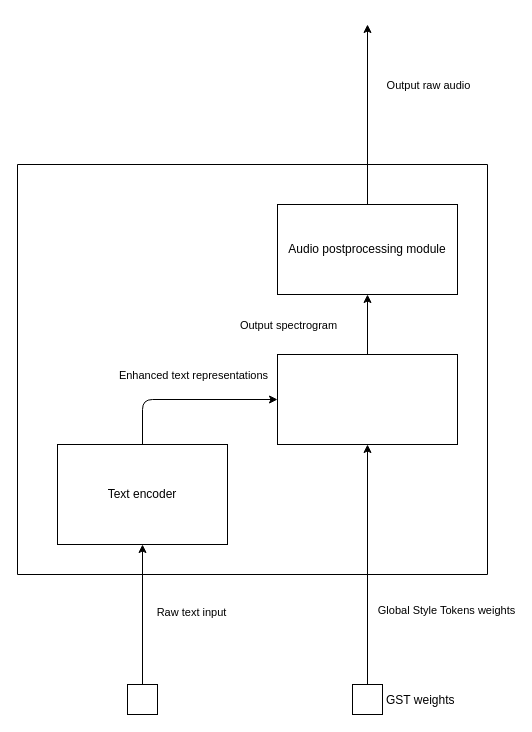
This 532x732 diagram has some shape labels left out. The box of each missing label's shape, as (x1, y1, x2, y2) in pixels:
Reverse Diffusion Model: (276, 354, 458, 444)
Textual input: (126, 684, 158, 714)
